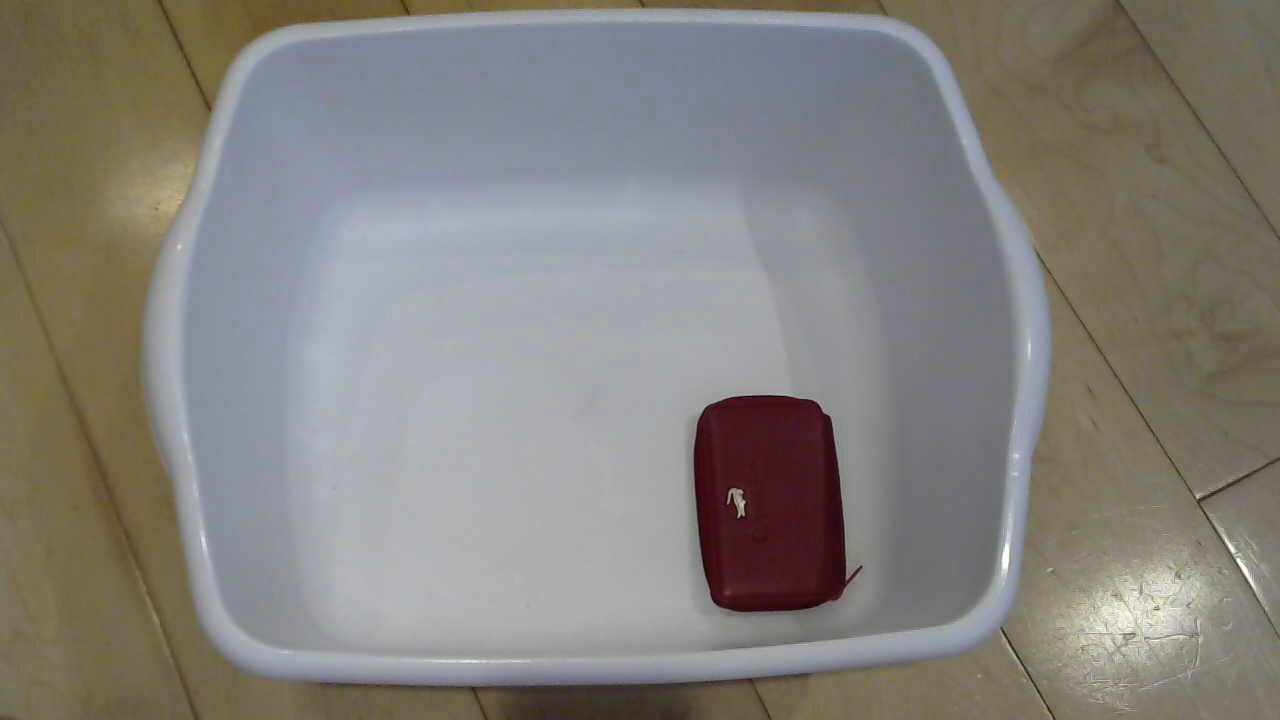wallet: (684, 386, 872, 626)
